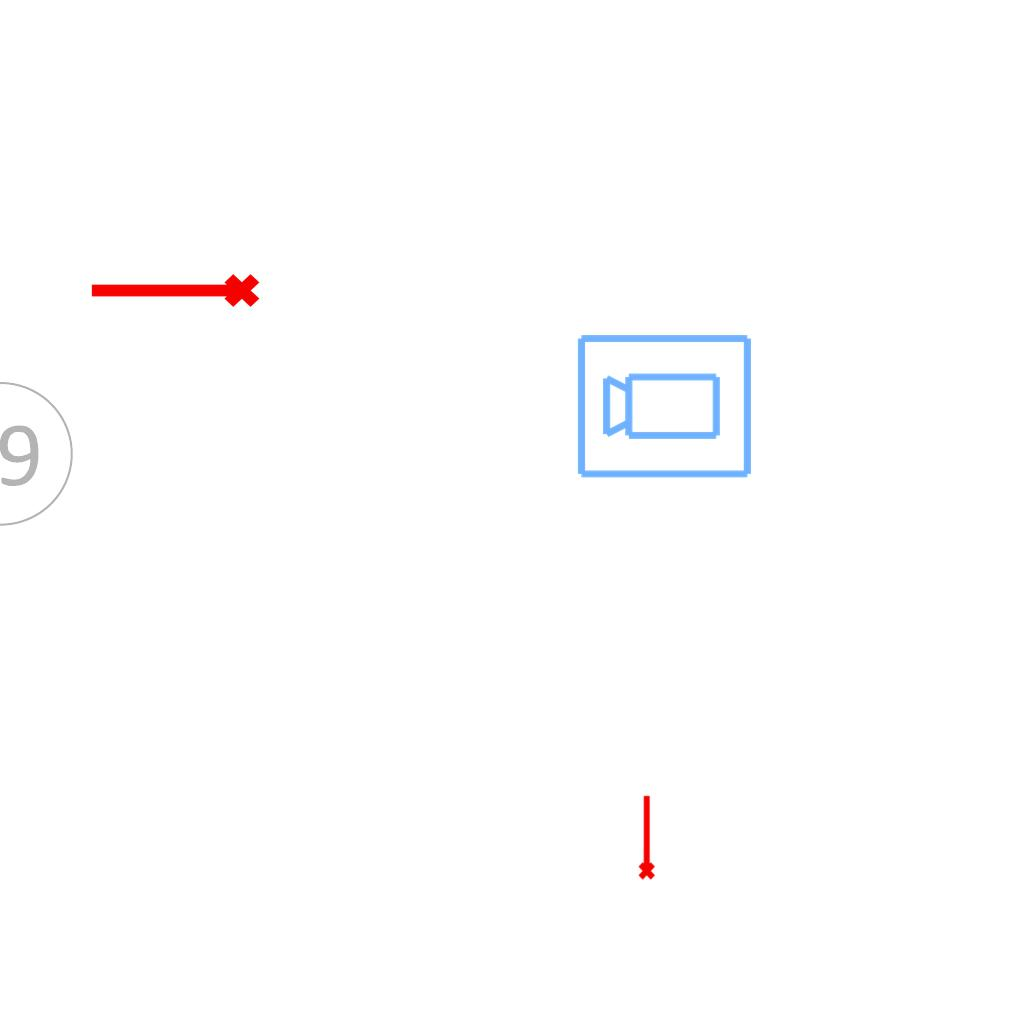ASR_Ansaugoeffnung: (86, 270, 262, 316), (634, 793, 657, 881)
KFO_Kamera_mit_Festobjektiv: (574, 328, 756, 482)
